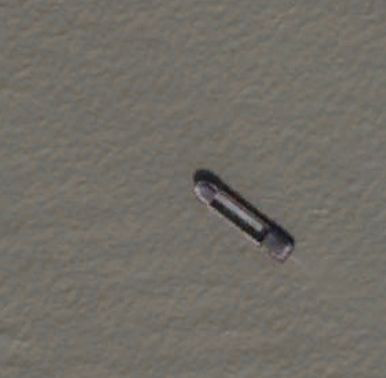boat: (193, 173, 295, 265)
